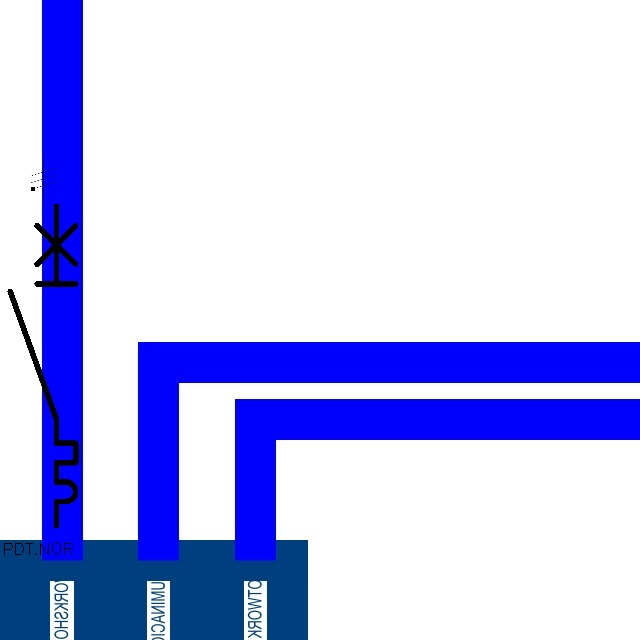interruptor_termomagnetico: (2, 198, 84, 534)
